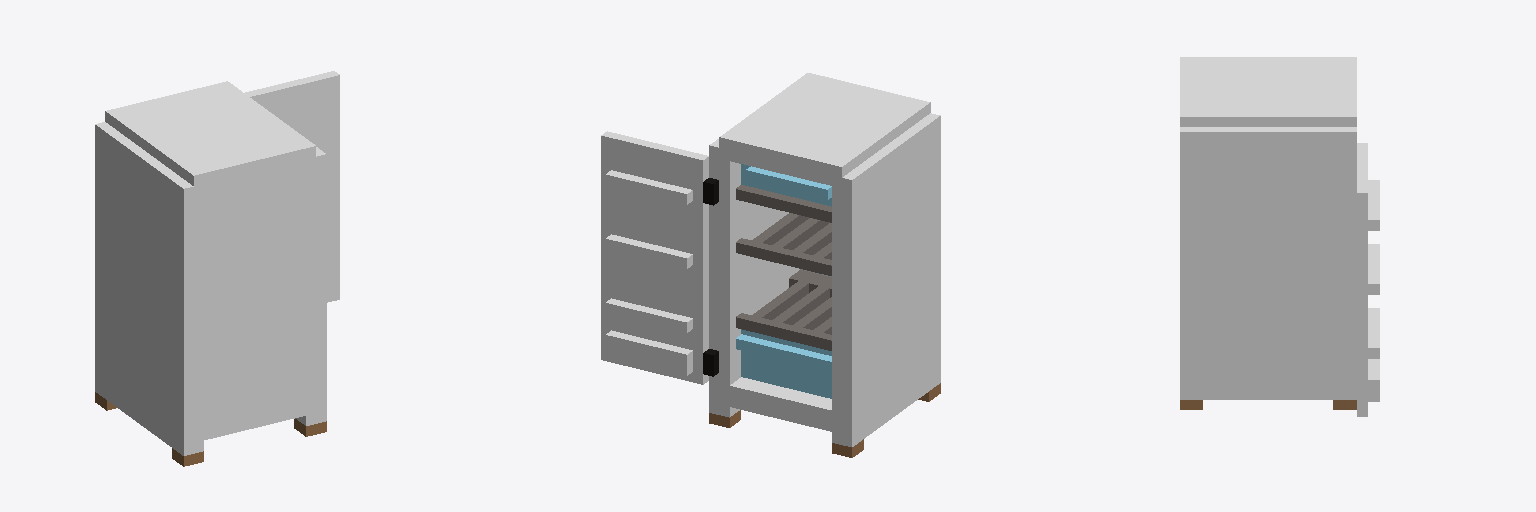
The picture shows the model from 3 angles: view 1: azimuth 30°, elevation 25°; view 2: azimuth 150°, elevation 25°; view 3: azimuth 270°, elevation 25°; orthographic projection.
Parts seen in each view (by area): view 1: Model; view 2: Model; view 3: Model.
Part boxes in pixels (x1,y1,x2,y2): Model: (95, 71, 339, 466); Model: (601, 73, 940, 457); Model: (1180, 57, 1379, 416).
Bounding box in the file's own units: 28.44 × 32 × 20.15.
1 materials, 1 textured.